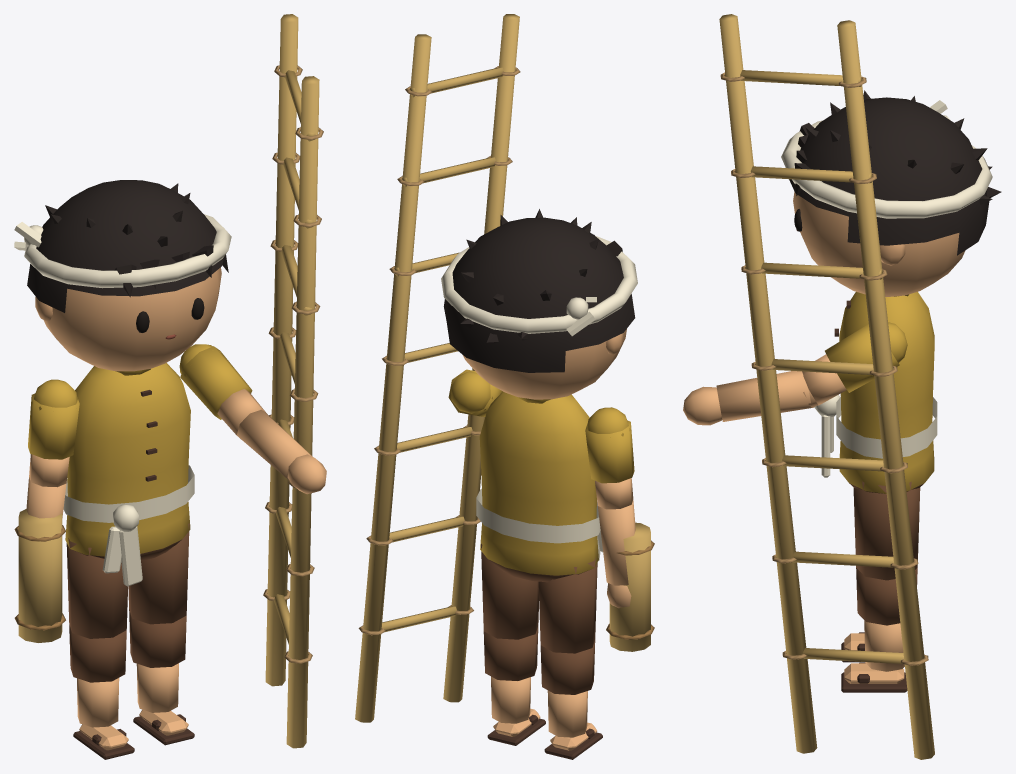
File: west_ladder_man.glb
3 renders of one model, left to right at view 1: azimuth 30°, elevation 25°; view 2: azimuth 150°, elevation 25°; view 3: azimuth 270°, elevation 25°, orthographic. The views are drawn at different scales.
Parts seen in each view (by area): view 1: head, prop_bamboo_ladder, body, shin_R, prop_bamboo_tube, shin_L, arm_R, leg_R, arm_L, leg_L, forearm_L, forearm_R; view 2: head, prop_bamboo_ladder, body, shin_R, shin_L, leg_R, arm_R, prop_bamboo_tube, leg_L, forearm_R, arm_L; view 3: prop_bamboo_ladder, head, body, shin_L, forearm_L, leg_L, arm_L.
Boxes of the visible parts, <box> form: head: <box>14,180,231,371</box>; prop_bamboo_ladder: <box>263,14,323,748</box>; body: <box>63,363,194,586</box>; shin_R: <box>69,625,134,759</box>; prop_bamboo_tube: <box>14,509,65,642</box>; shin_L: <box>129,609,194,745</box>; arm_R: <box>28,379,79,487</box>; leg_R: <box>66,538,127,638</box>; arm_L: <box>179,344,266,434</box>; leg_L: <box>128,523,189,624</box>; forearm_L: <box>236,409,326,494</box>; forearm_R: <box>26,477,66,518</box>; head: <box>441,209,637,399</box>; prop_bamboo_ladder: <box>355,14,520,722</box>; body: <box>476,391,602,582</box>; shin_R: <box>540,639,602,759</box>; shin_L: <box>483,626,545,745</box>; leg_R: <box>538,558,597,653</box>; arm_R: <box>585,407,634,509</box>; prop_bamboo_tube: <box>606,522,654,651</box>; leg_L: <box>481,543,539,639</box>; forearm_R: <box>598,500,635,608</box>; arm_L: <box>448,369,502,416</box>; prop_bamboo_ladder: <box>719,14,934,759</box>; head: <box>781,90,1001,296</box>; body: <box>814,291,937,493</box>; shin_L: <box>841,568,917,692</box>; forearm_L: <box>683,371,817,425</box>; leg_L: <box>853,481,920,580</box>; arm_L: <box>802,322,907,407</box>.
Bounding box in the file's own units: 0.8199 × 1.93 × 0.7587.
